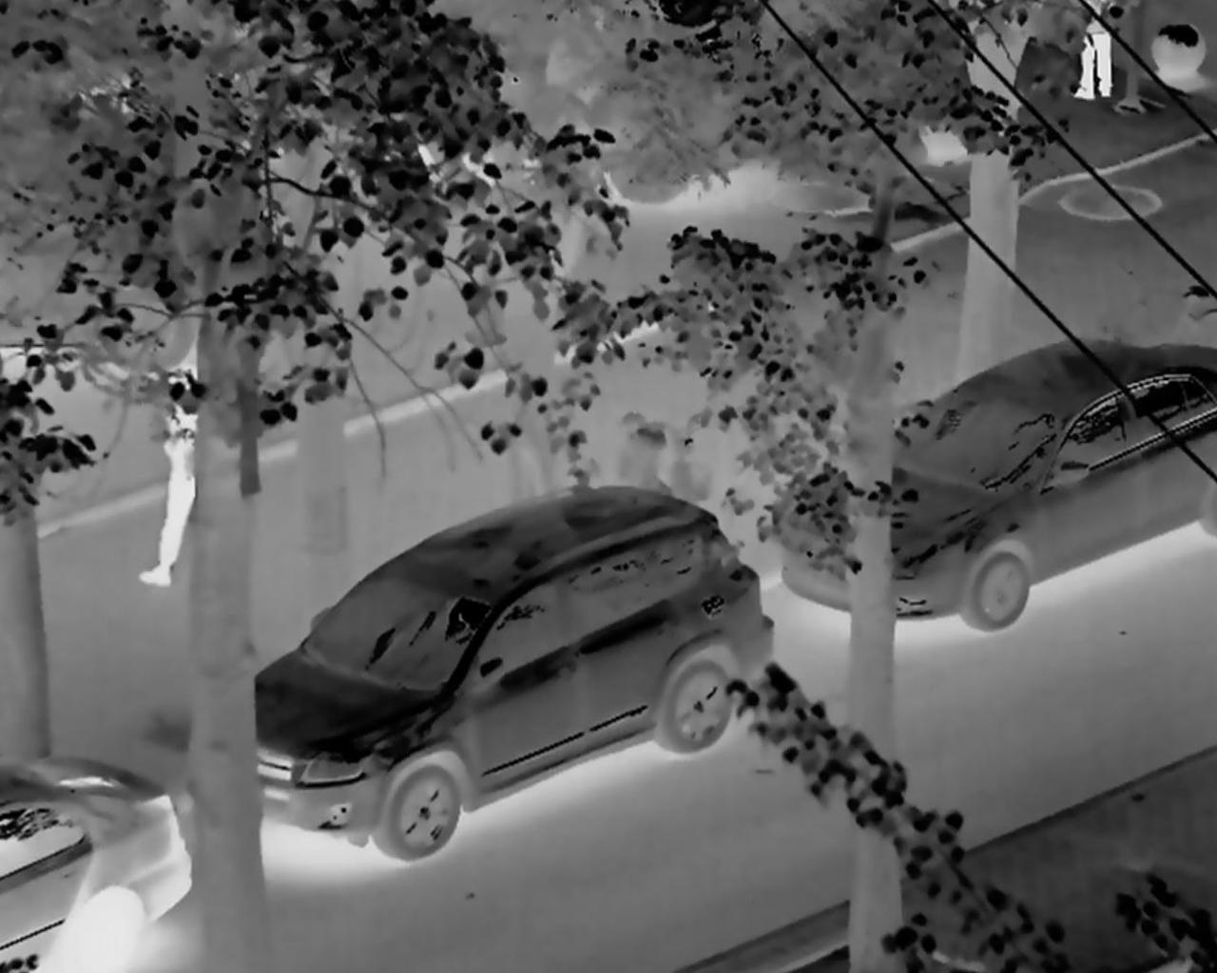person: (136, 337, 223, 592)
